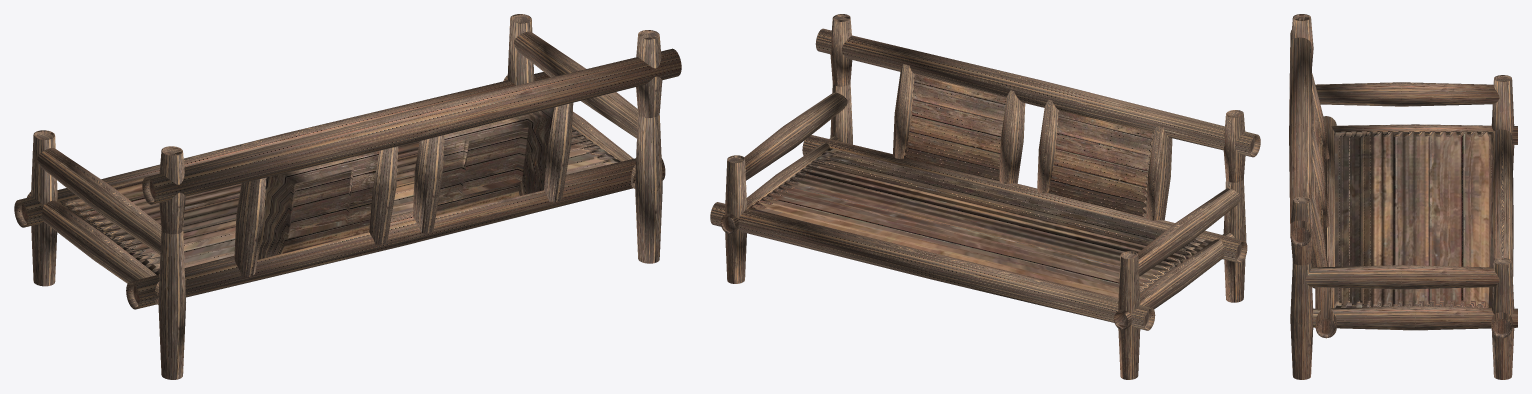
File: upuan.obj
The picture shows the model from 3 angles, left to right: view 1: azimuth 30°, elevation 25°; view 2: azimuth 150°, elevation 25°; view 3: azimuth 270°, elevation 25°; orthographic projection. The views are drawn at different scales.
Parts seen in each view (by area): view 1: Upuan1; view 2: Upuan1; view 3: Upuan1.
Boxes of the visible parts, <box> form: Upuan1: <box>14,14,681,379</box>; Upuan1: <box>710,14,1260,379</box>; Upuan1: <box>1289,14,1517,379</box>.
Size of the model in its own units: 9.64 by 3.92 by 4.62.
1 material, 1 textured.
